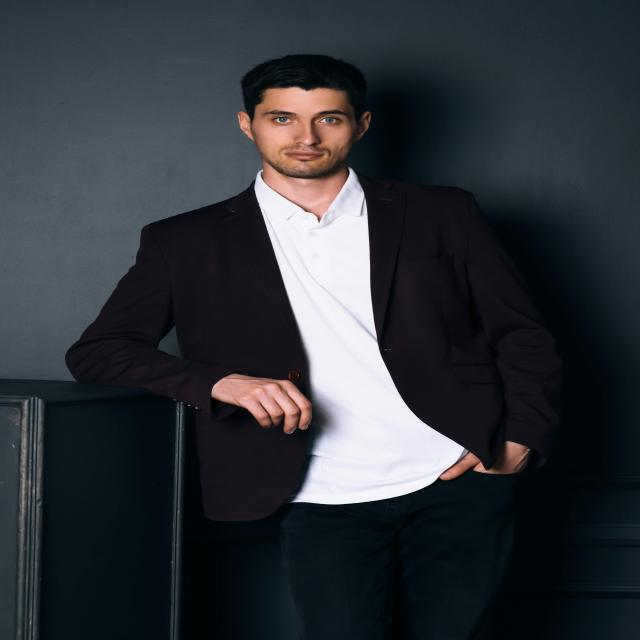human: (56, 50, 598, 633)
